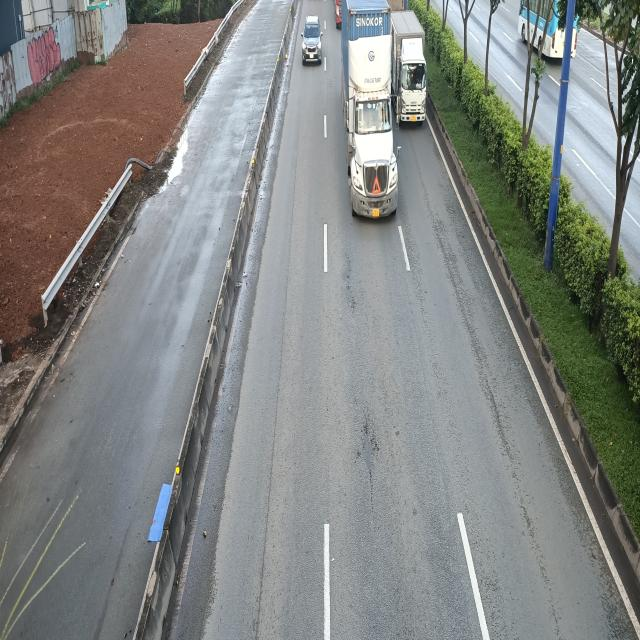car: (300, 13, 322, 63)
container: (342, 2, 400, 220)
truck: (391, 10, 429, 130)
